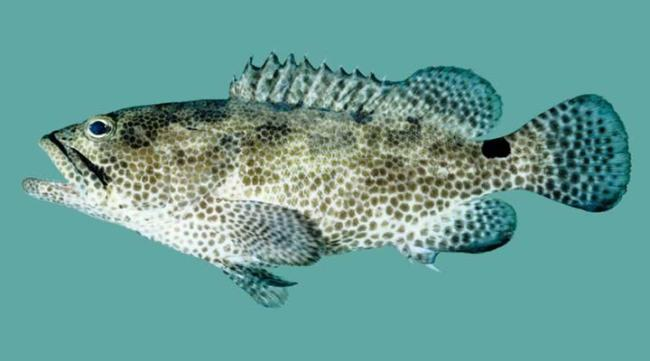fish: (21, 48, 632, 308)
